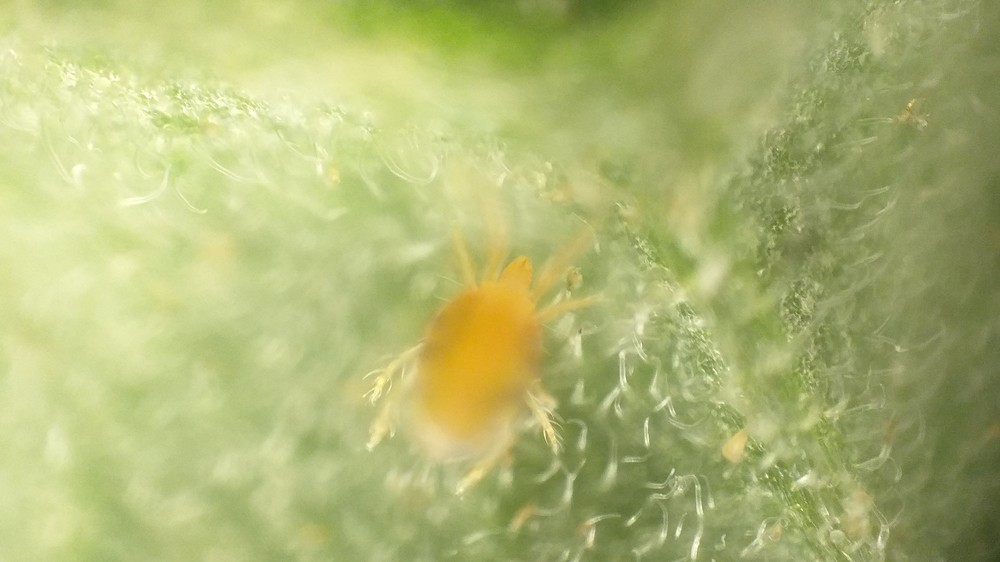Aracnido Rojo: (363, 168, 615, 501)
